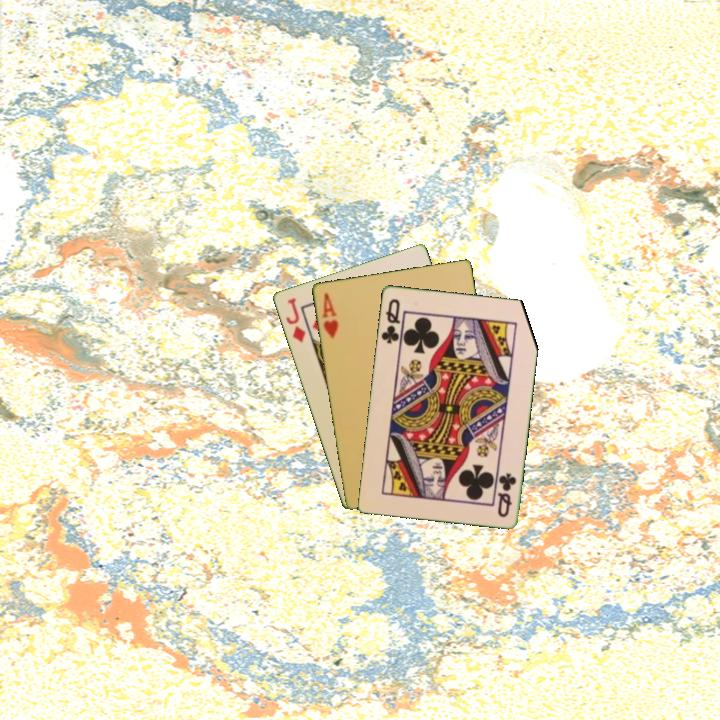Ah: (318, 289, 341, 341)
Jd: (282, 294, 308, 345)
Qc: (377, 295, 403, 346), (494, 469, 519, 520)
